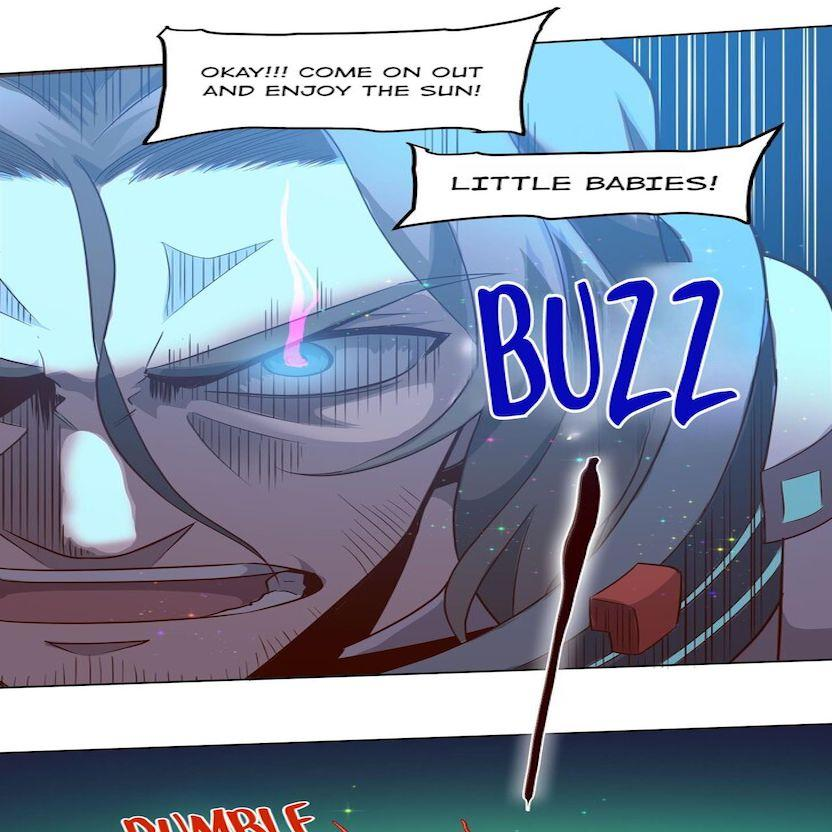Bubble: (139, 4, 564, 139), (393, 145, 792, 231)
